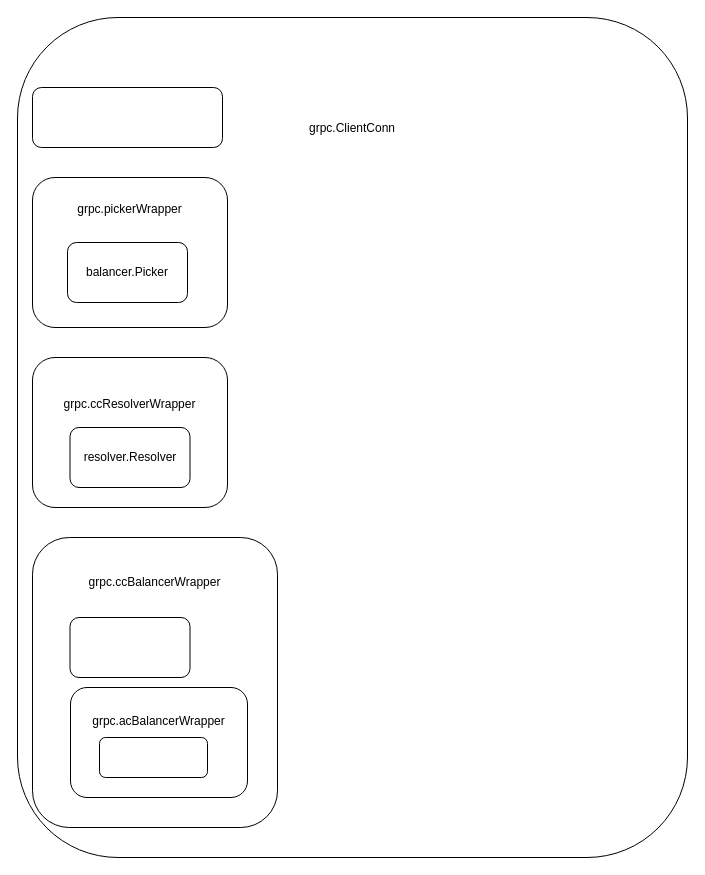
The diagram is 705 pixels wide and 875 high, and some of its shapes have lost their labels. The shapes that lost their labels are listed below. From the top down, each one's centre as x and y in pixels, then its label:
At point 127,117: "grpc.connectivityStateManager".
At point 129,647: "balancer.Balancer".
At point 153,757: "addrConn".
